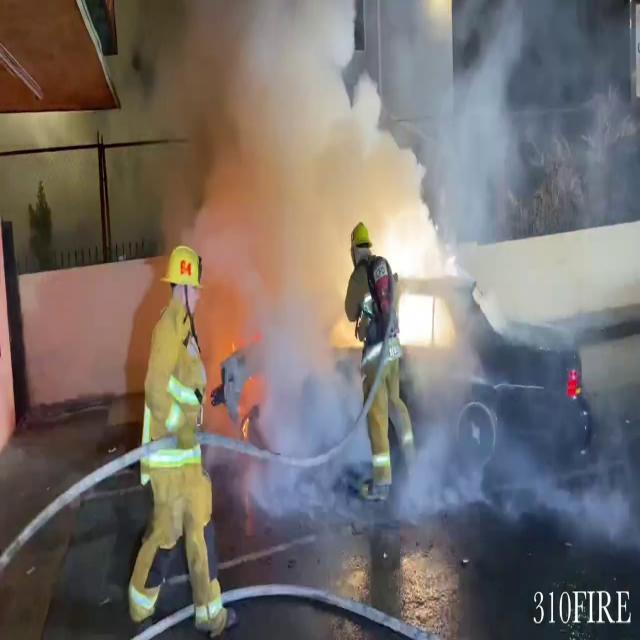Smoke: (91, 0, 610, 508)
